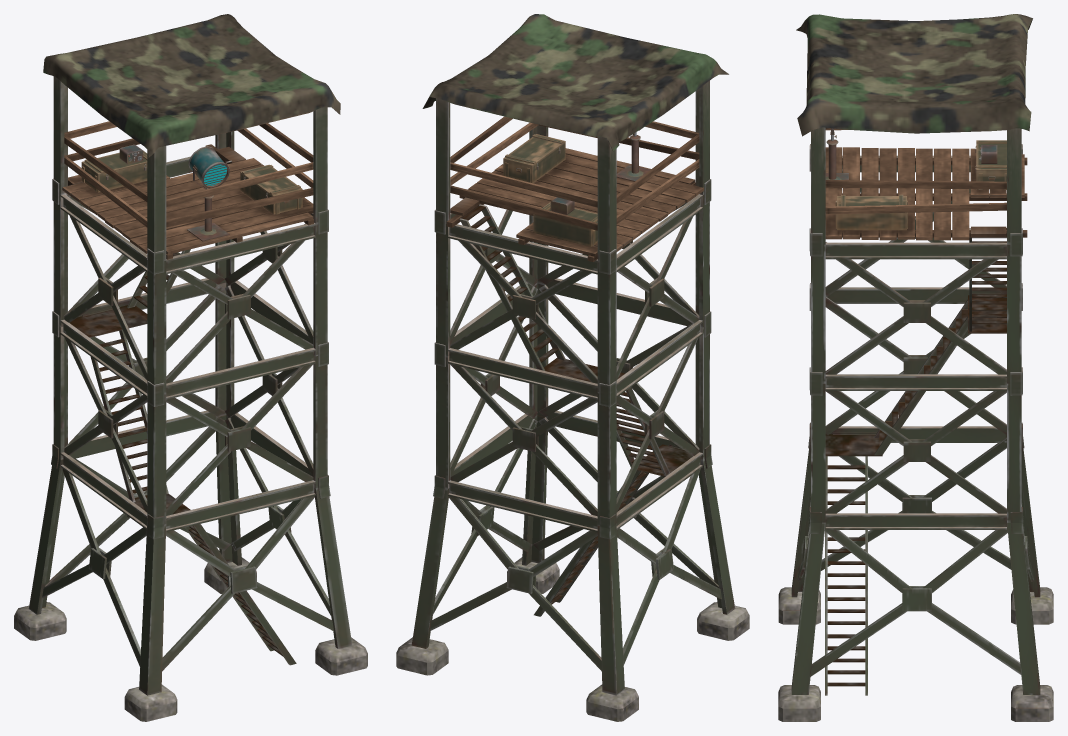
File: watch-tower-042f32.glb
3 views of the same model, side by side, from view 1: azimuth 30°, elevation 25°; view 2: azimuth 150°, elevation 25°; view 3: azimuth 270°, elevation 25° (orthographic). The views are drawn at different scales.
Parts seen in each view (by area): view 1: PropMesh; view 2: PropMesh; view 3: PropMesh.
Boxes of the visible parts, left/top/right/bottom form: PropMesh: left=14, top=14, right=367, bottom=721; PropMesh: left=396, top=14, right=749, bottom=721; PropMesh: left=778, top=14, right=1053, bottom=721.
Bounding box in the file's own units: 0.9043 × 2.2 × 0.904.
1 material, 1 textured.
